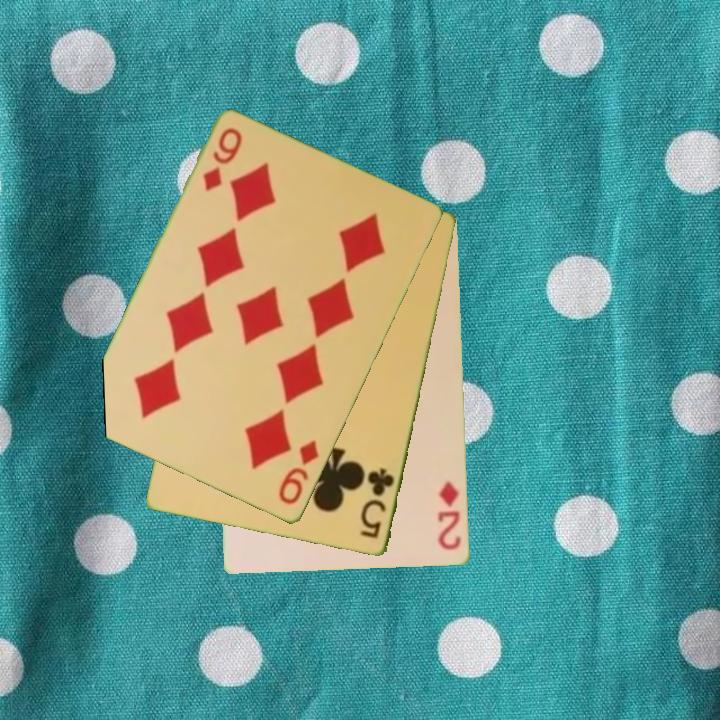2d: (435, 478, 464, 554)
5c: (357, 465, 398, 542)
9d: (275, 437, 323, 509), (199, 124, 246, 195)
